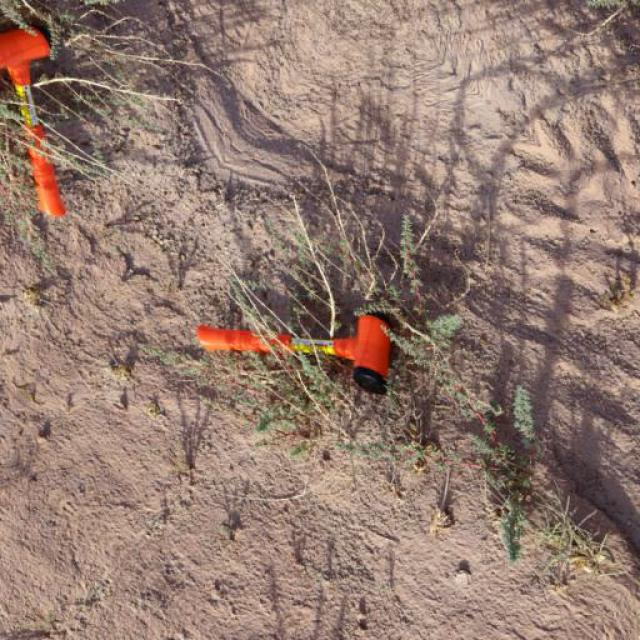mallet: (196, 309, 396, 395), (1, 21, 69, 218)
